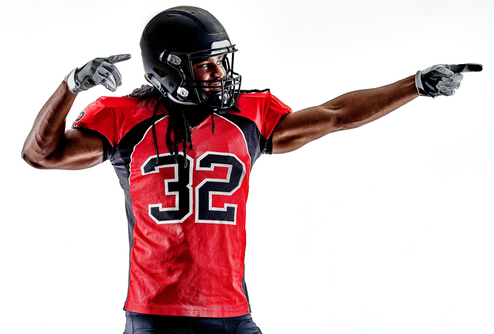finger: (93, 62, 120, 86), (107, 61, 125, 81), (93, 77, 117, 91), (448, 63, 485, 72), (109, 50, 131, 63), (438, 80, 462, 89), (438, 89, 457, 97), (443, 75, 466, 80)
